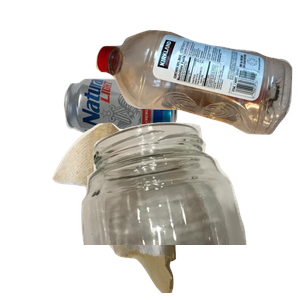glass: (74, 120, 300, 300)
metal: (61, 75, 231, 202)
plastic: (93, 27, 300, 154)
trash: (50, 120, 219, 300)
